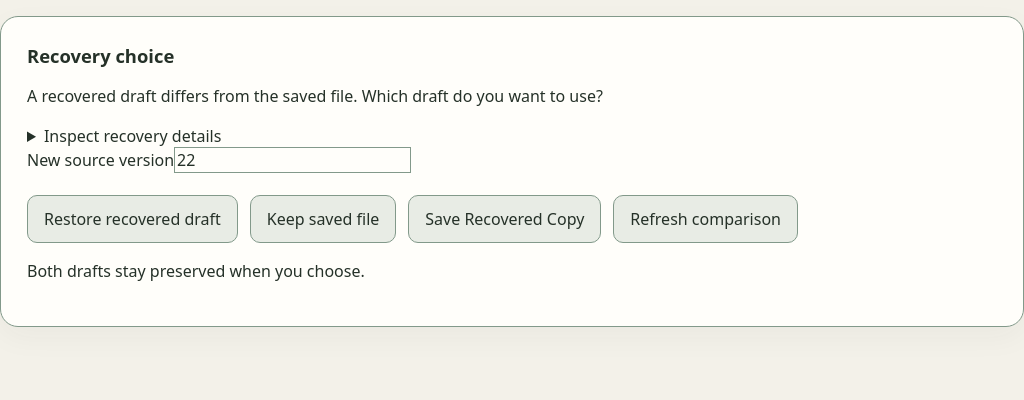
explicit recovery choices › shows both generations and completes an explicit recovery without picking a timestamp winner
Click the button "Restore recovered draft" at (132, 219), box [27, 195, 238, 243]
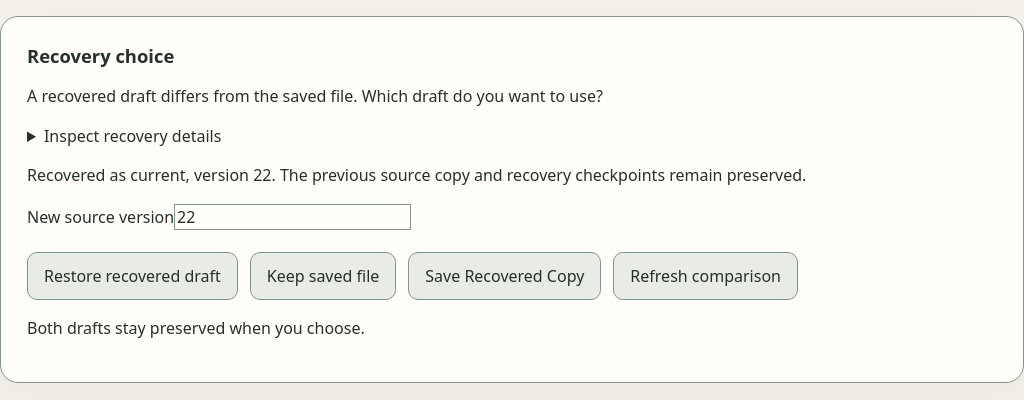
Expected: the text "Recovered as current, version 22" is shown, [27, 164, 806, 186]
